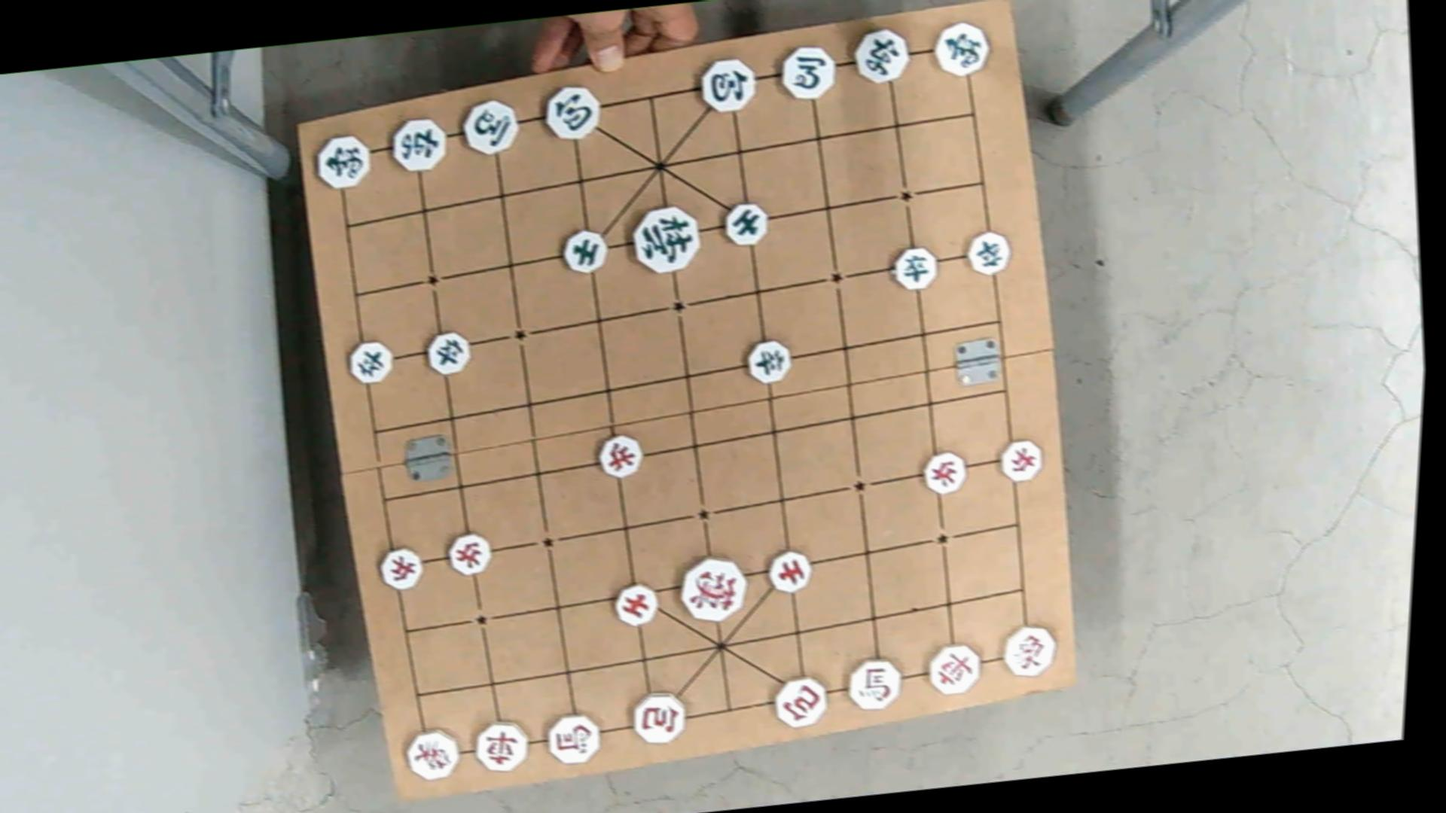cha_green: (847, 28, 914, 84), (386, 114, 452, 169)
cha_red: (917, 643, 984, 694), (471, 719, 529, 769)
jol_green: (740, 339, 797, 382), (343, 340, 398, 382), (888, 244, 941, 287), (962, 230, 1015, 273), (422, 330, 475, 372)
jol_red: (593, 434, 647, 476), (915, 453, 969, 494), (440, 533, 494, 574), (993, 439, 1047, 480), (374, 547, 426, 589)
ma_green: (456, 98, 522, 153), (773, 44, 838, 99)
ma_red: (538, 712, 604, 763), (843, 657, 904, 709)
po_green: (694, 57, 760, 112), (538, 84, 603, 138)
po_red: (625, 693, 691, 744), (768, 676, 828, 726)
sa_green: (554, 231, 611, 275), (718, 202, 773, 245)
sa_red: (761, 550, 816, 592), (611, 582, 661, 626)
sang_green: (924, 20, 990, 74), (309, 136, 374, 190)
sang_red: (995, 623, 1060, 674), (401, 727, 465, 778)
wang_green: (624, 207, 703, 272)
wang_red: (670, 557, 749, 620)
